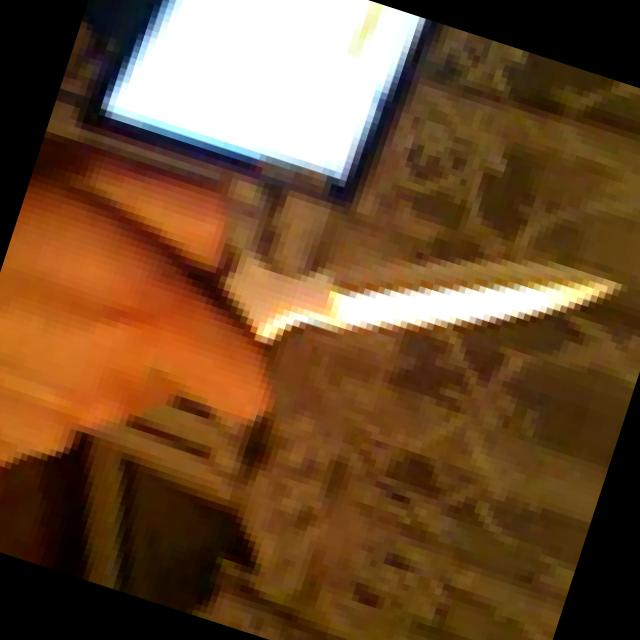knife: (162, 130, 640, 484)
